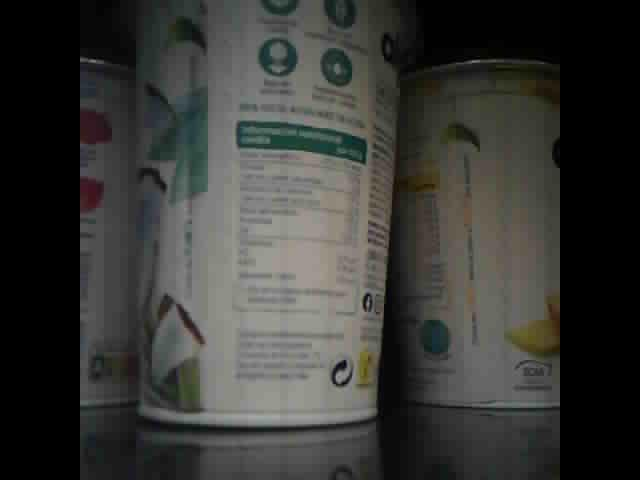alpro: (126, 1, 407, 429), (391, 54, 560, 412), (80, 53, 154, 409)
